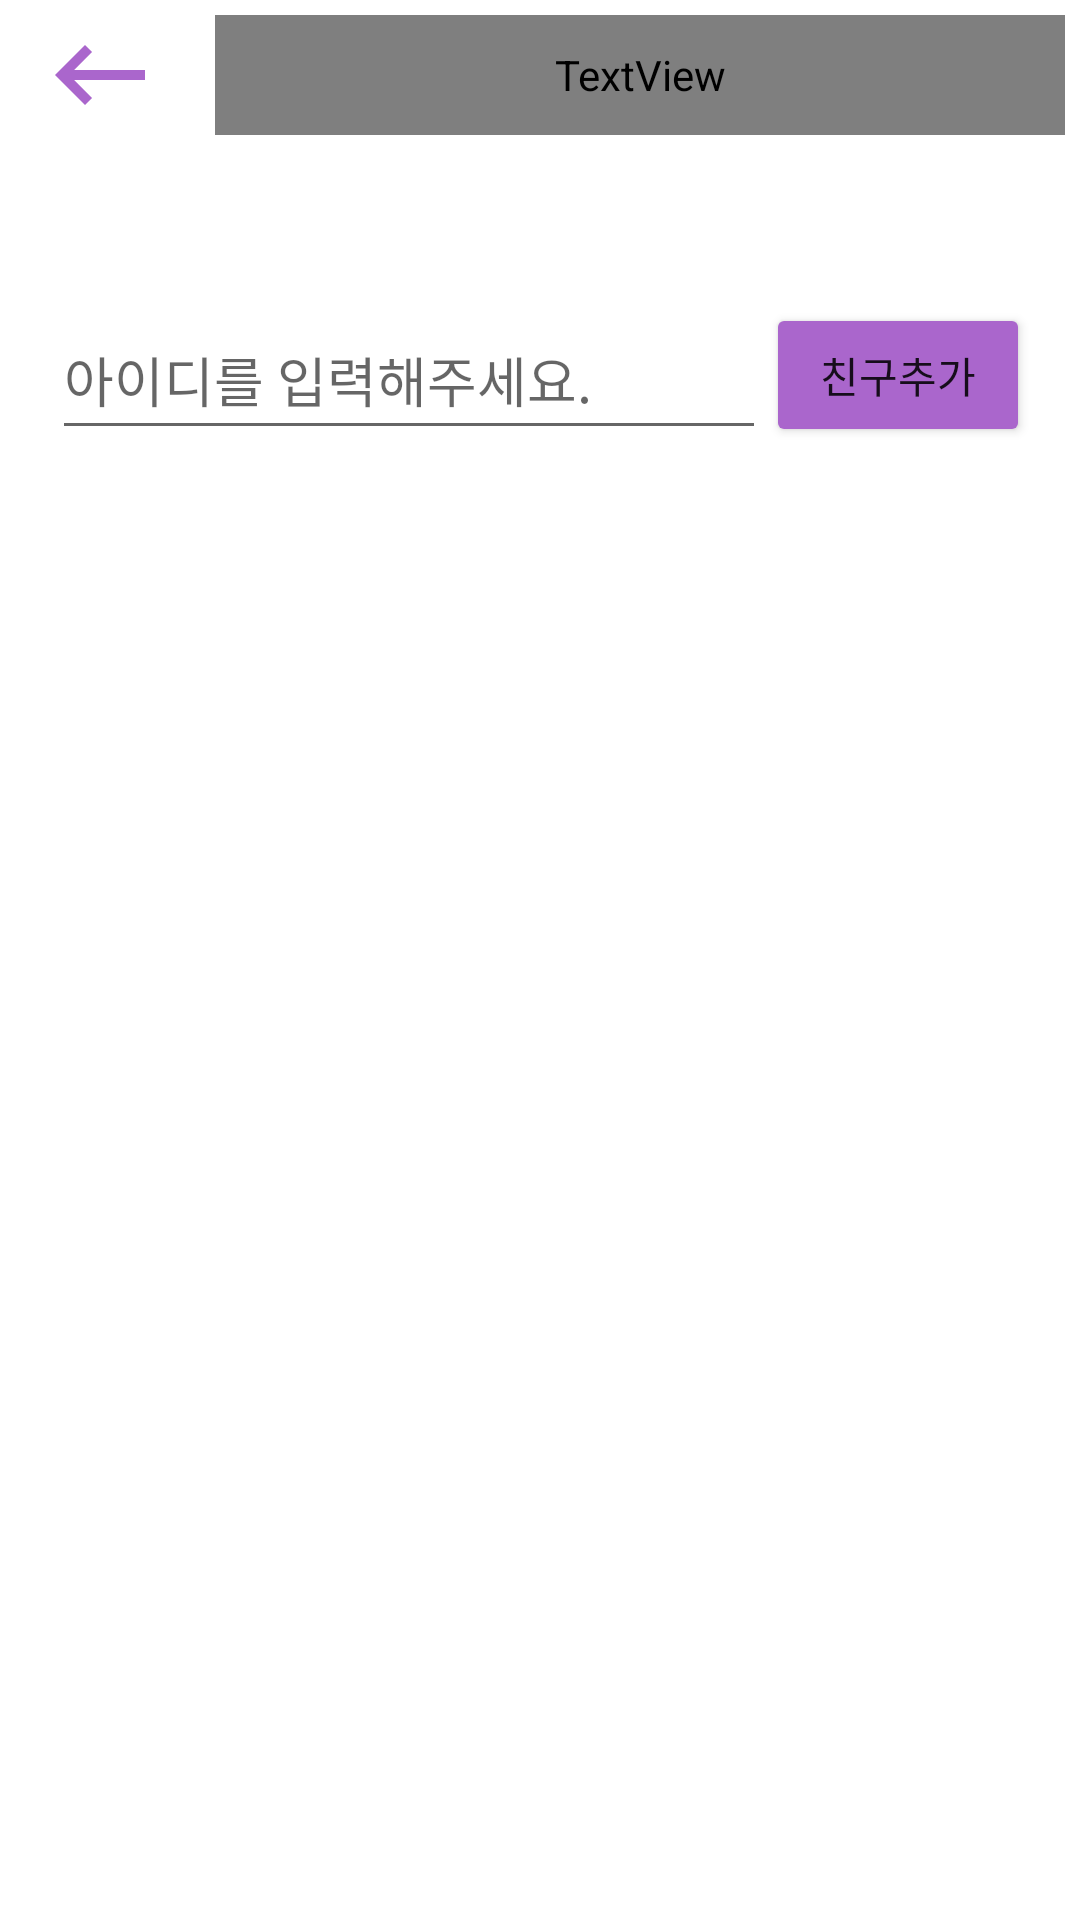

Named icons in this screenshot (1080*1920) and their bounding boxes, [left=x1, top=y1, right=x2, bottom=y2]:
keyboard backspace: [left=55, top=45, right=145, bottom=105]
